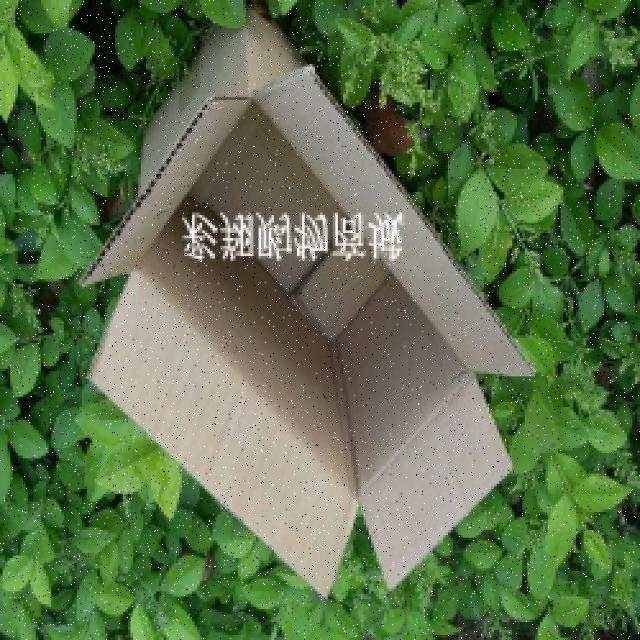box: (71, 11, 536, 617)
